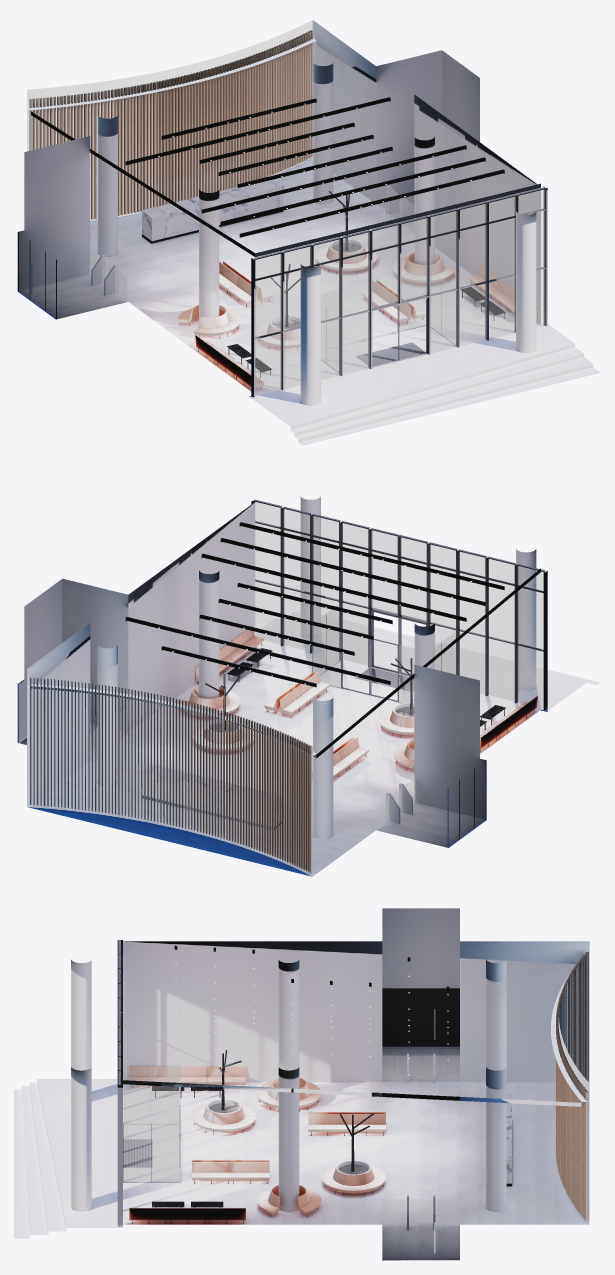
3 renders of one model, top to bottom at view 1: azimuth 30°, elevation 25°; view 2: azimuth 150°, elevation 25°; view 3: azimuth 270°, elevation 25°, orthographic. The views are drawn at different scales.
Parts seen in each view (by area): view 1: floor, walls, furniture, glass, doors; view 2: walls, floor, furniture, glass, doors; view 3: walls, floor, furniture, glass, doors.
Part boxes in pixels (box(x1,y1,x2,y2)): floor: box(24, 97, 600, 445); walls: box(17, 20, 540, 405); furniture: box(28, 30, 537, 387); glass: box(89, 179, 544, 395); doors: box(29, 186, 549, 398); walls: box(19, 496, 536, 847); floor: box(24, 522, 600, 876); furniture: box(28, 626, 537, 873); glass: box(90, 502, 543, 827); doors: box(17, 499, 549, 847); walls: box(70, 908, 589, 1260); floor: box(14, 945, 589, 1257); furniture: box(129, 951, 588, 1253); glass: box(123, 1056, 459, 1222); doors: box(117, 940, 459, 1227).
Bounding box in the file's own units: 24.81 × 8.35 × 28.65.
Materials: 7 (4 with a texture image).
